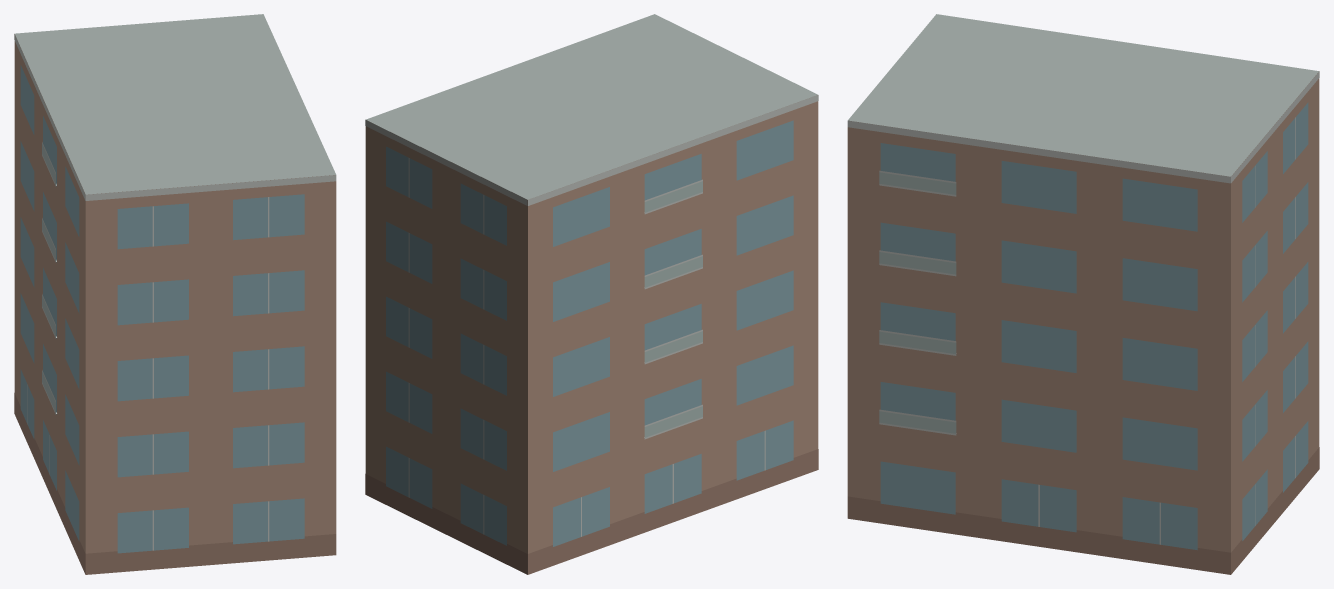
File: survey-upis-32885143.glb
3 renders of one model, left to right at view 1: azimuth 30°, elevation 25°; view 2: azimuth 150°, elevation 25°; view 3: azimuth 270°, elevation 25°, orthographic. The views are drawn at different scales.
Parts seen in each view (by area): view 1: survey-upis-32885143.tmp; view 2: survey-upis-32885143.tmp; view 3: survey-upis-32885143.tmp.
Boxes of the visible parts, <box> form: survey-upis-32885143.tmp: <box>14,14,336,574</box>; survey-upis-32885143.tmp: <box>365,14,818,574</box>; survey-upis-32885143.tmp: <box>847,14,1319,574</box>.
Size of the model in its own units: 12.66 by 14.43 by 15.51.
